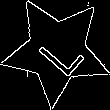L_NW: (28, 23, 85, 79)
